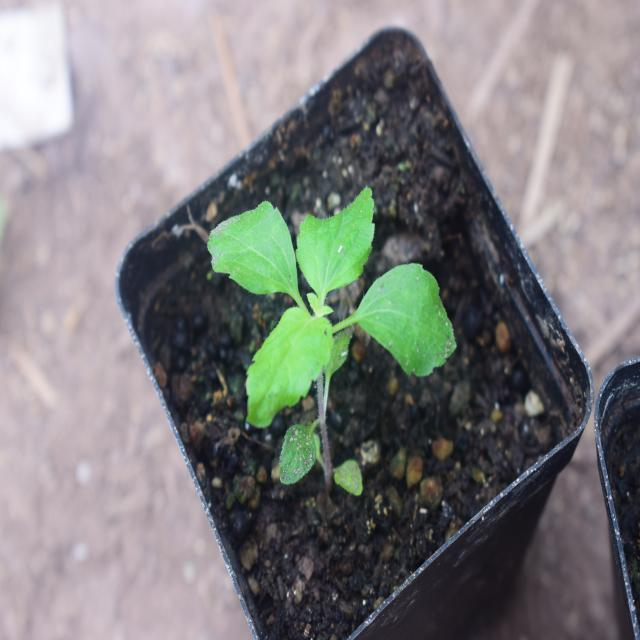billygoat_weed: (210, 194, 460, 471)
